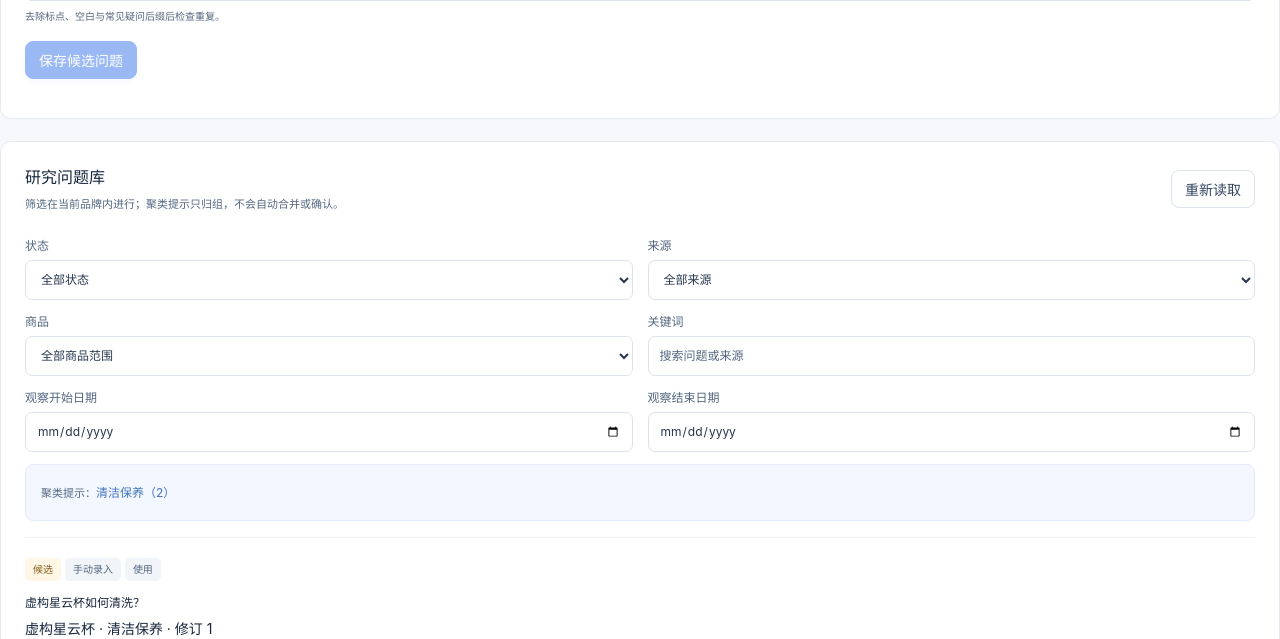
Test: filters_clusters_confirms_then_adds_to_fixed_questions_with_refresh
(page scrolled)
Check: the heading "虚构星云杯如何清洗？" is shown, box [25,595,145,610]
Check: the button "清洁保养（2）" is shown, box [96,478,175,507]
Select "外部资料导入" in the dropdown labelled "来源" at (951, 280), box [648,260,1255,300]
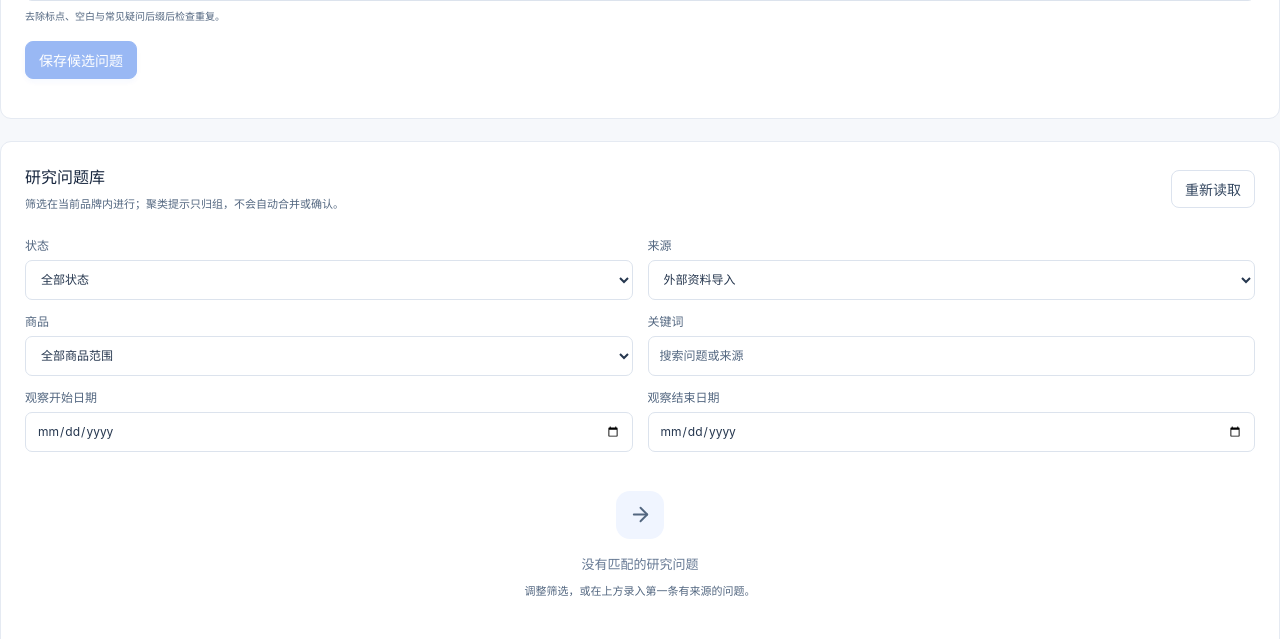
Check: the heading "没有匹配的研究问题" is shown, box [582,554,698,574]
Select "手动录入" in the dropdown labelled "来源" at (951, 280), box [648,260,1255,300]
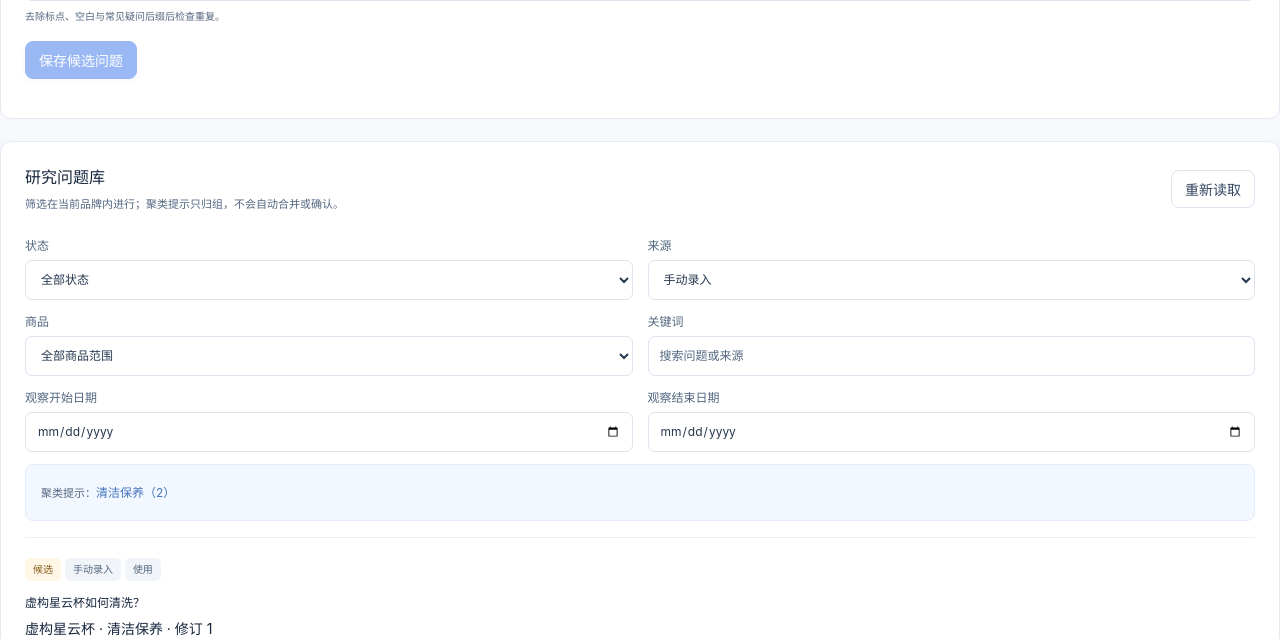
Type "杯盖不存在" into the field labelled "关键词".
click(951, 356); type("杯盖不存在")  # box [648,336,1255,376]
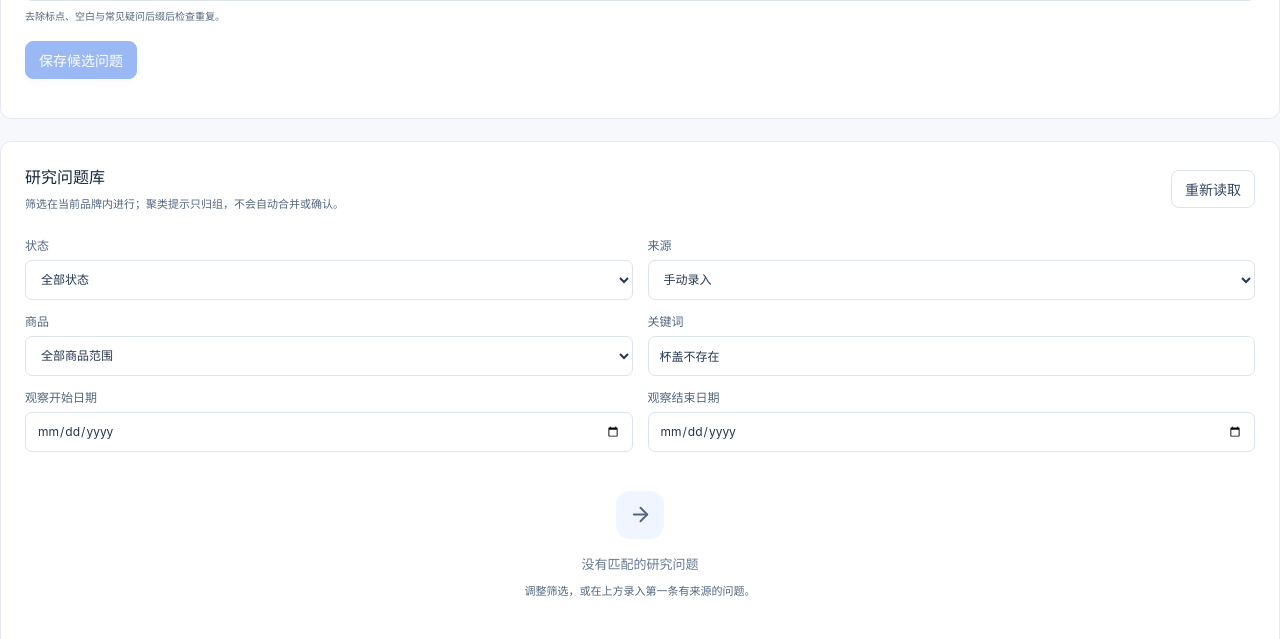
Check: the heading "没有匹配的研究问题" is shown, box [582,554,698,574]
Replace the text in the field labelled "关键词" with "星云杯" at (951, 356), box [648,336,1255,376]
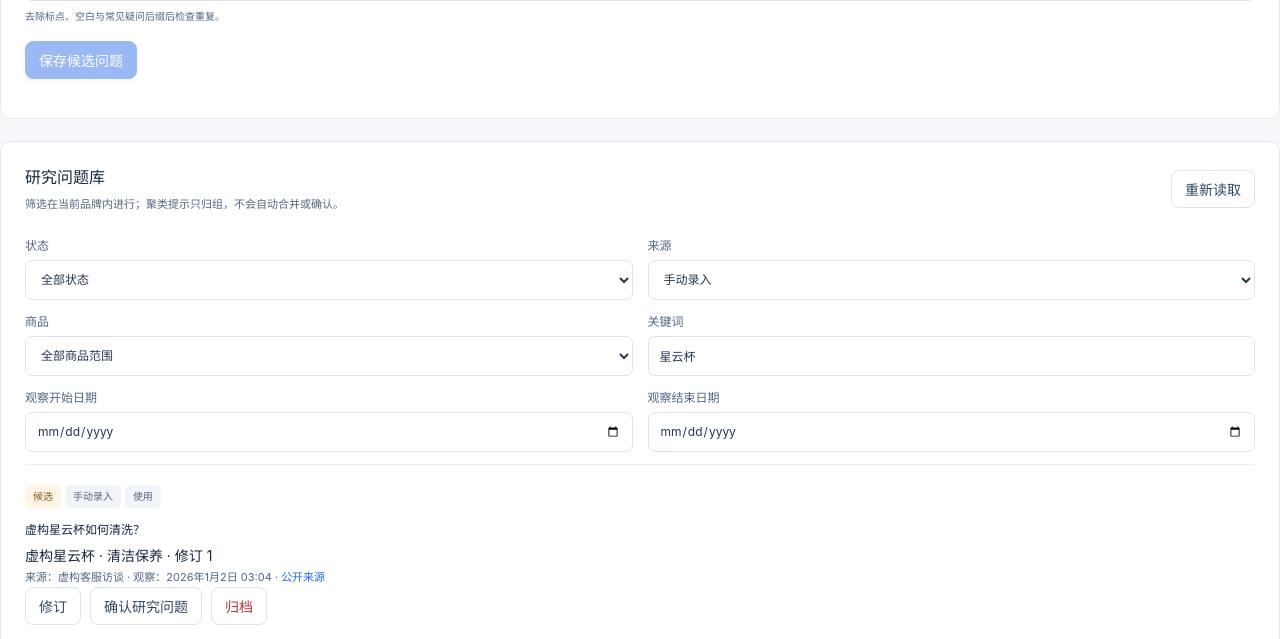
Click the button "确认研究问题".
click(146, 606)  # box [90,587,202,625]
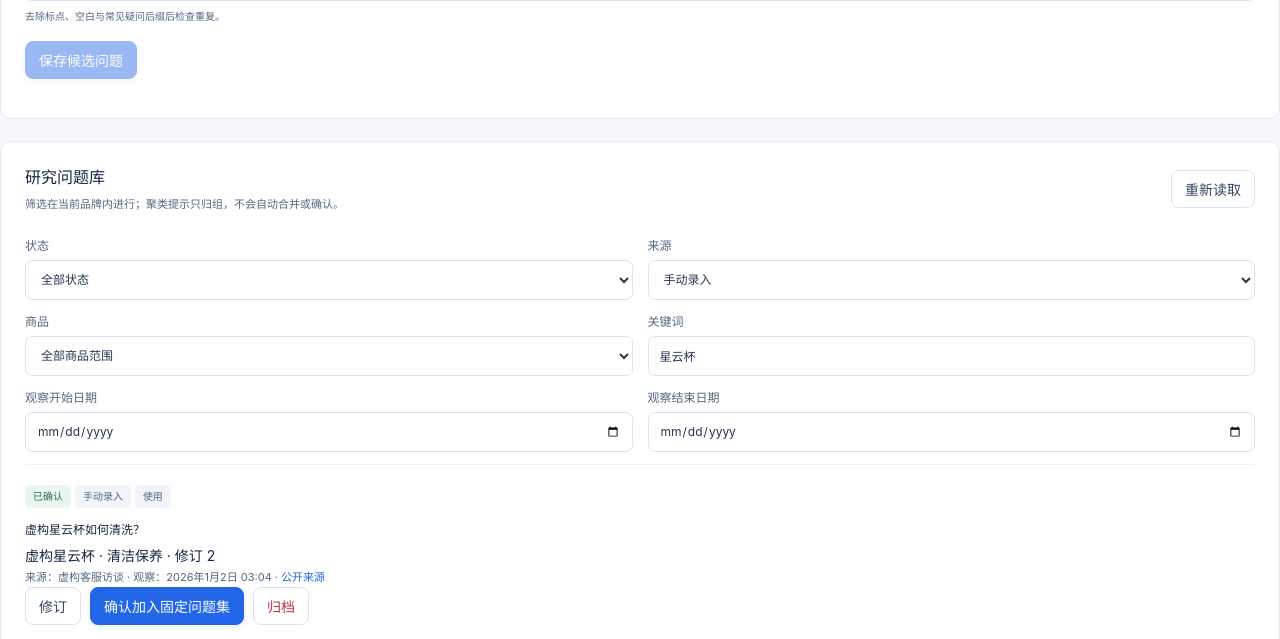
Click the button "确认加入固定问题集".
click(167, 606)  # box [90,587,244,625]
(page scrolled)
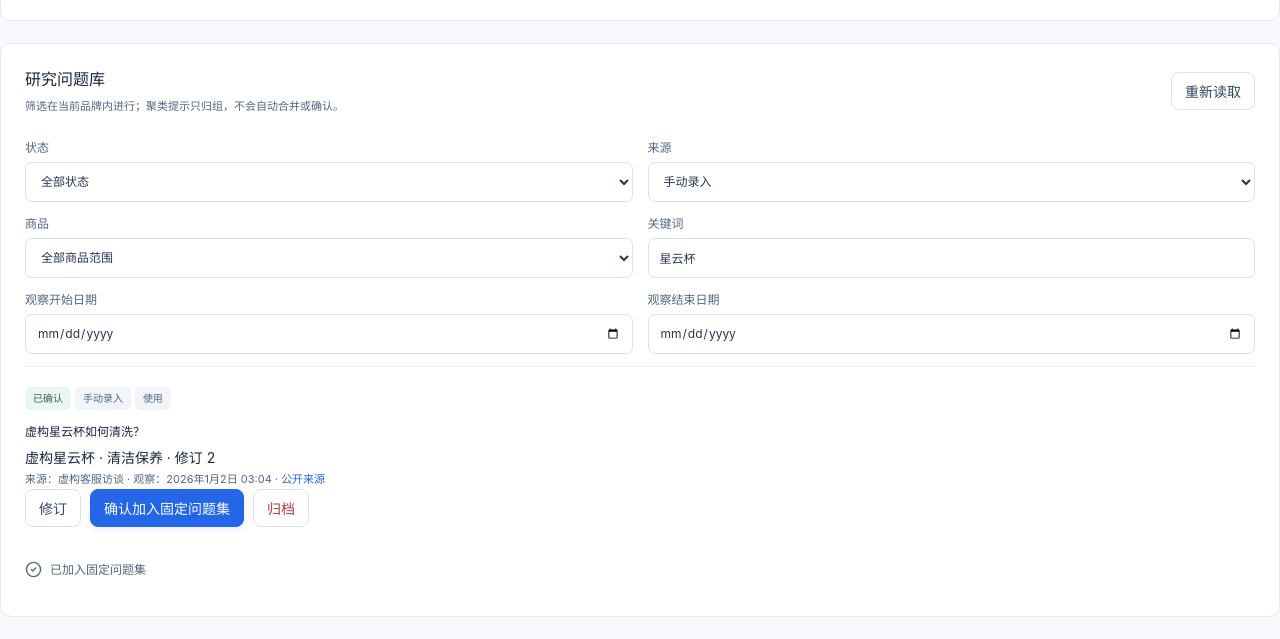
Check: the text "已加入固定问题集" is shown, box [25,561,146,578]
